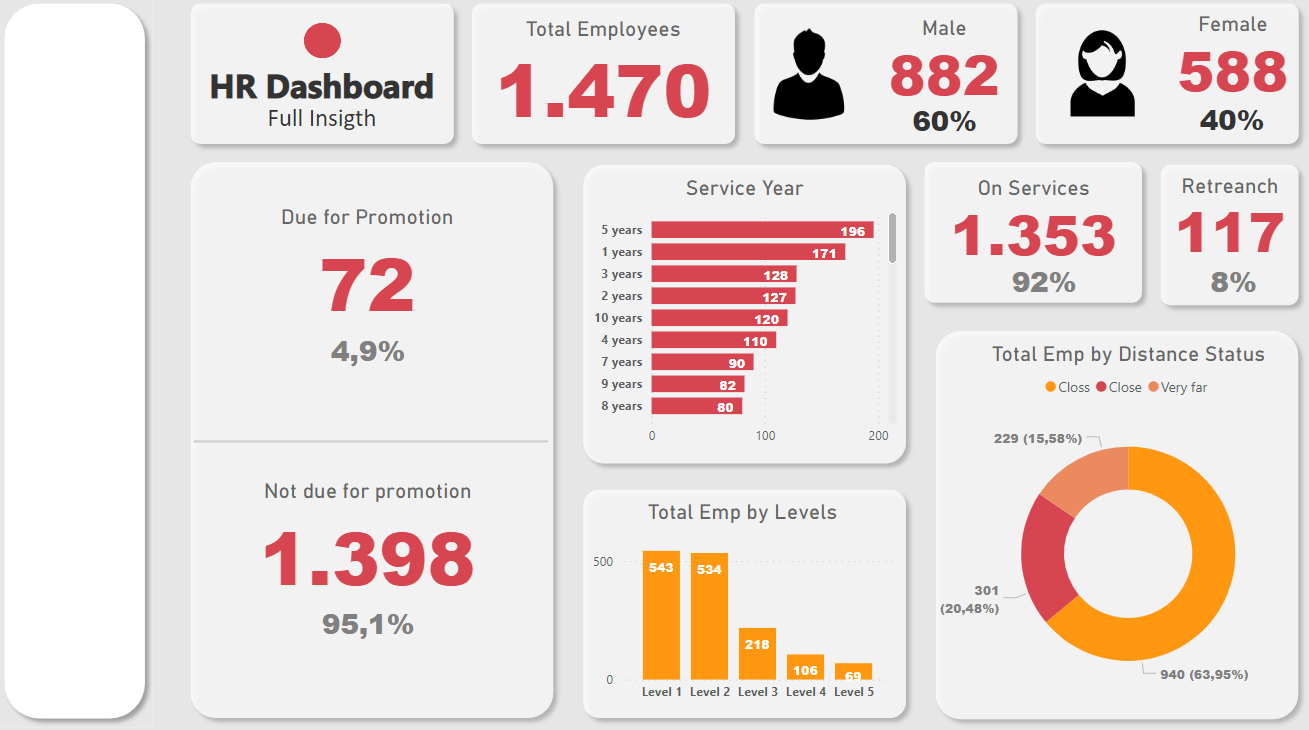

What the dashboard file says about the page in this screenshot:
{"tool":"powerbi","page":{"name":"Page 1","canvas":[1280,720],"ordinal":0},"visuals":[{"type":"shape","box":[0,0,153.7,708.1],"z":0},{"type":"shape","box":[451.5,0,271.7,153.7],"z":1000},{"type":"shape","box":[179.8,0,271.7,153.7],"z":2000},{"type":"shape","box":[723.2,0,271.7,153.7],"z":3000},{"type":"shape","box":[994.9,0,271.7,153.7],"z":4000},{"type":"shape","box":[179.8,153.7,367.8,554.4],"z":5000},{"type":"shape","box":[558.5,155.1,329.3,306],"z":6000},{"type":"shape","box":[558.5,469.3,329.3,238.8],"z":7000},{"type":"shape","box":[887.8,153.7,227.8,153.7],"z":8000},{"type":"shape","box":[1115.6,155.1,150.9,153.7],"z":9000},{"type":"shape","box":[898.8,315.6,367.8,392.5],"z":10000},{"type":"textbox","box":[196.2,61.7,237.4,54.9],"z":11000},{"type":"textbox","box":[196.2,98.8,237.4,54.9],"z":12000},{"type":"shape","box":[297.8,27.4,35.7,34.3],"z":13000},{"type":"card","title":"Total Employees","fields":{"Values":["HR Analytics Data.Total Emp"]},"box":[476.2,22,220.9,109.8],"z":14000},{"type":"card","title":"Male","fields":{"Values":["HR Analytics Data.Male"]},"box":[842.3,20.3,148.2,85.1],"z":15000},{"type":"card","title":"Male","fields":{"Values":["HR Analytics Data.% male"]},"box":[879.3,104,74.1,38.4],"z":16000},{"type":"card","title":"Female","fields":{"Values":["HR Analytics Data.Female"]},"box":[1120.6,17,148.2,85.1],"z":17000},{"type":"card","title":"Male","fields":{"Values":["HR Analytics Data.% Female"]},"box":[1157.2,101.9,74.1,38.4],"z":18000},{"type":"card","title":"Due for Promotion","fields":{"Values":["HR Analytics Data.Due for Promotion"]},"box":[251.1,203.1,216.8,122.1],"z":19000},{"type":"card","title":"Male","fields":{"Values":["HR Analytics Data.% Due for promotion"]},"box":[306,325.2,107,38.4],"z":20000},{"type":"card","title":"Not due for promotion","fields":{"Values":["HR Analytics Data.Not due"]},"box":[227.8,466.6,263.5,122.1],"z":21000},{"type":"card","title":"Male","fields":{"Values":["HR Analytics Data.% Not due"]},"box":[306,588.7,107,38.4],"z":22000},{"type":"shape","box":[192.1,417.2,341.7,28.8],"z":23000},{"type":"barChart","title":"Service Year","fields":{"Category":["HR Analytics Data.Service Year"],"Y":["HR Analytics Data.Total Emp"]},"box":[572.2,174.3,303.3,269],"z":24000},{"type":"columnChart","fields":{"Y":["HR Analytics Data.Total Emp"],"Category":["HR Analytics Data.Levels"]},"box":[572.2,487.1,299.1,204.5],"z":25000},{"type":"image","box":[724.5,27.4,120.8,98.8],"z":26000},{"type":"image","box":[1020.9,30.2,94.7,93.3],"z":27000},{"type":"card","title":"On Services","fields":{"Values":["HR Analytics Data.On Service"]},"box":[912.5,174.3,178.4,85.1],"z":28000},{"type":"card","title":"Male","fields":{"Values":["HR Analytics Data.% on service"]},"box":[964.7,259.3,94.7,38.4],"z":29000},{"type":"card","title":"Retreanch","fields":{"Values":["HR Analytics Data.will be retired"]},"box":[1101.9,172.9,178.4,85.1],"z":30000},{"type":"card","title":"Male","fields":{"Values":["HR Analytics Data.% will be retired"]},"box":[1137.6,259.3,115.3,38.4],"z":31000},{"type":"donutChart","fields":{"Category":["HR Analytics Data.Distance Status"],"Y":["HR Analytics Data.Total Emp"]},"box":[907,334.8,373.2,356.8],"z":32000}]}

Visuals, with their boxes in screenshot pixels (x1, y1, x2, y2), scaled from the page's 1280x720 canvas onto the 1309x730 screenshot:
shape: <bbox>0, 0, 157, 718</bbox>
shape: <bbox>462, 0, 740, 156</bbox>
shape: <bbox>184, 0, 462, 156</bbox>
shape: <bbox>740, 0, 1017, 156</bbox>
shape: <bbox>1017, 0, 1295, 156</bbox>
shape: <bbox>184, 156, 560, 718</bbox>
shape: <bbox>571, 157, 908, 468</bbox>
shape: <bbox>571, 476, 908, 718</bbox>
shape: <bbox>908, 156, 1141, 312</bbox>
shape: <bbox>1141, 157, 1295, 313</bbox>
shape: <bbox>919, 320, 1295, 718</bbox>
textbox: <bbox>201, 63, 443, 118</bbox>
textbox: <bbox>201, 100, 443, 156</bbox>
shape: <bbox>305, 28, 341, 63</bbox>
"Total Employees" card: <bbox>487, 22, 713, 134</bbox>
"Male" card: <bbox>861, 21, 1013, 107</bbox>
"Male" card: <bbox>899, 105, 975, 144</bbox>
"Female" card: <bbox>1146, 17, 1298, 104</bbox>
"Male" card: <bbox>1183, 103, 1259, 142</bbox>
"Due for Promotion" card: <bbox>257, 206, 479, 330</bbox>
"Male" card: <bbox>313, 330, 422, 369</bbox>
"Not due for promotion" card: <bbox>233, 473, 502, 597</bbox>
"Male" card: <bbox>313, 597, 422, 636</bbox>
shape: <bbox>196, 423, 546, 452</bbox>
"Service Year" barChart: <bbox>585, 177, 895, 449</bbox>
columnChart - HR Analytics Data.Total Emp x HR Analytics Data.Levels: <bbox>585, 494, 891, 701</bbox>
image: <bbox>741, 28, 864, 128</bbox>
image: <bbox>1044, 31, 1141, 125</bbox>
"On Services" card: <bbox>933, 177, 1116, 263</bbox>
"Male" card: <bbox>987, 263, 1083, 302</bbox>
"Retreanch" card: <bbox>1127, 175, 1308, 262</bbox>
"Male" card: <bbox>1163, 263, 1281, 302</bbox>
donutChart - HR Analytics Data.Distance Status x HR Analytics Data.Total Emp: <bbox>928, 339, 1308, 701</bbox>
